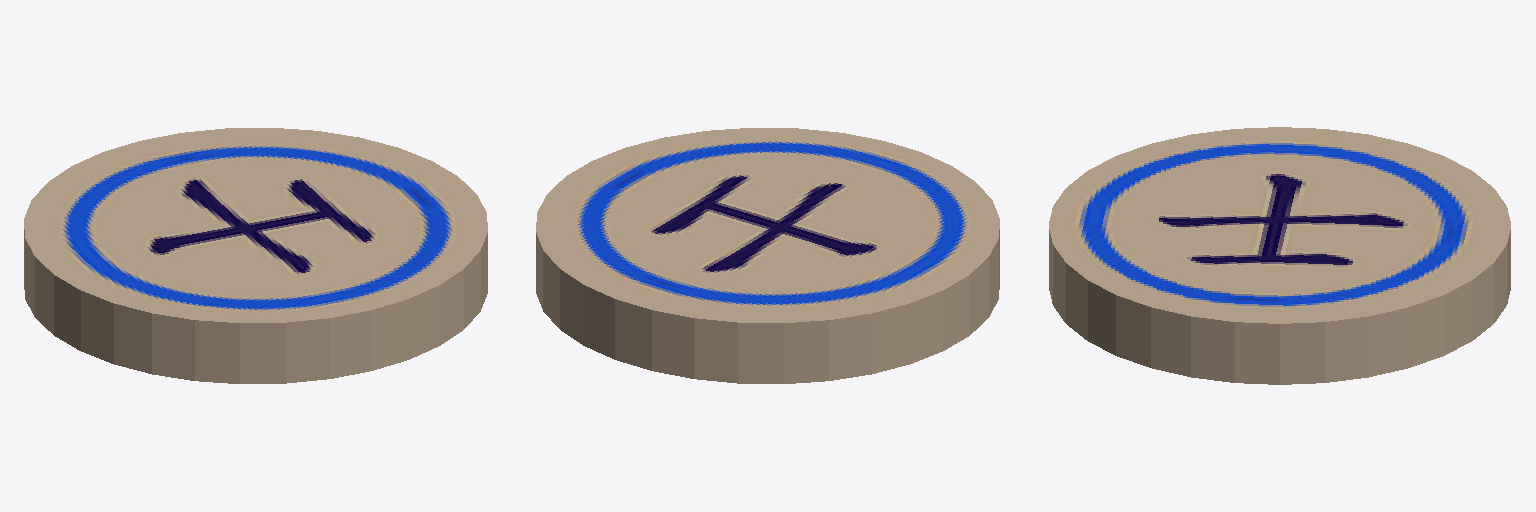
3 renders of one model, left to right at view 1: azimuth 30°, elevation 25°; view 2: azimuth 150°, elevation 25°; view 3: azimuth 270°, elevation 25°, orthographic.
Parts seen in each view (by area): view 1: Cylinder; view 2: Cylinder; view 3: Cylinder.
Part boxes in pixels (left/top/right/bottom): Cylinder: left=24, top=128, right=487, bottom=383; Cylinder: left=536, top=128, right=999, bottom=383; Cylinder: left=1049, top=127, right=1510, bottom=384.
Bounding box in the file's own units: 0.3145 × 0.0454 × 0.3123.
1 materials, 1 textured.